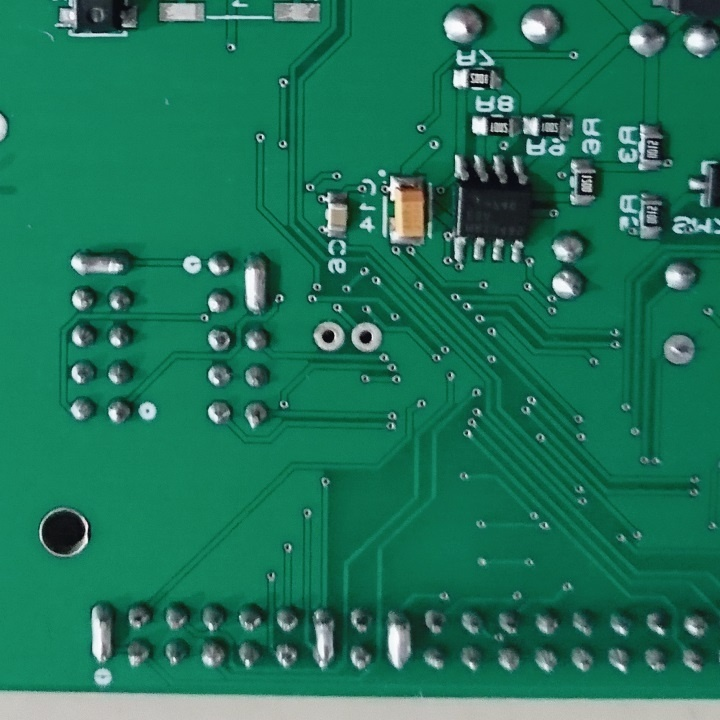F: (661, 329, 699, 368), (312, 318, 345, 357), (351, 321, 384, 356)
P: (382, 605, 416, 675), (69, 246, 137, 280), (86, 597, 118, 667), (307, 603, 339, 672), (241, 252, 272, 321)
